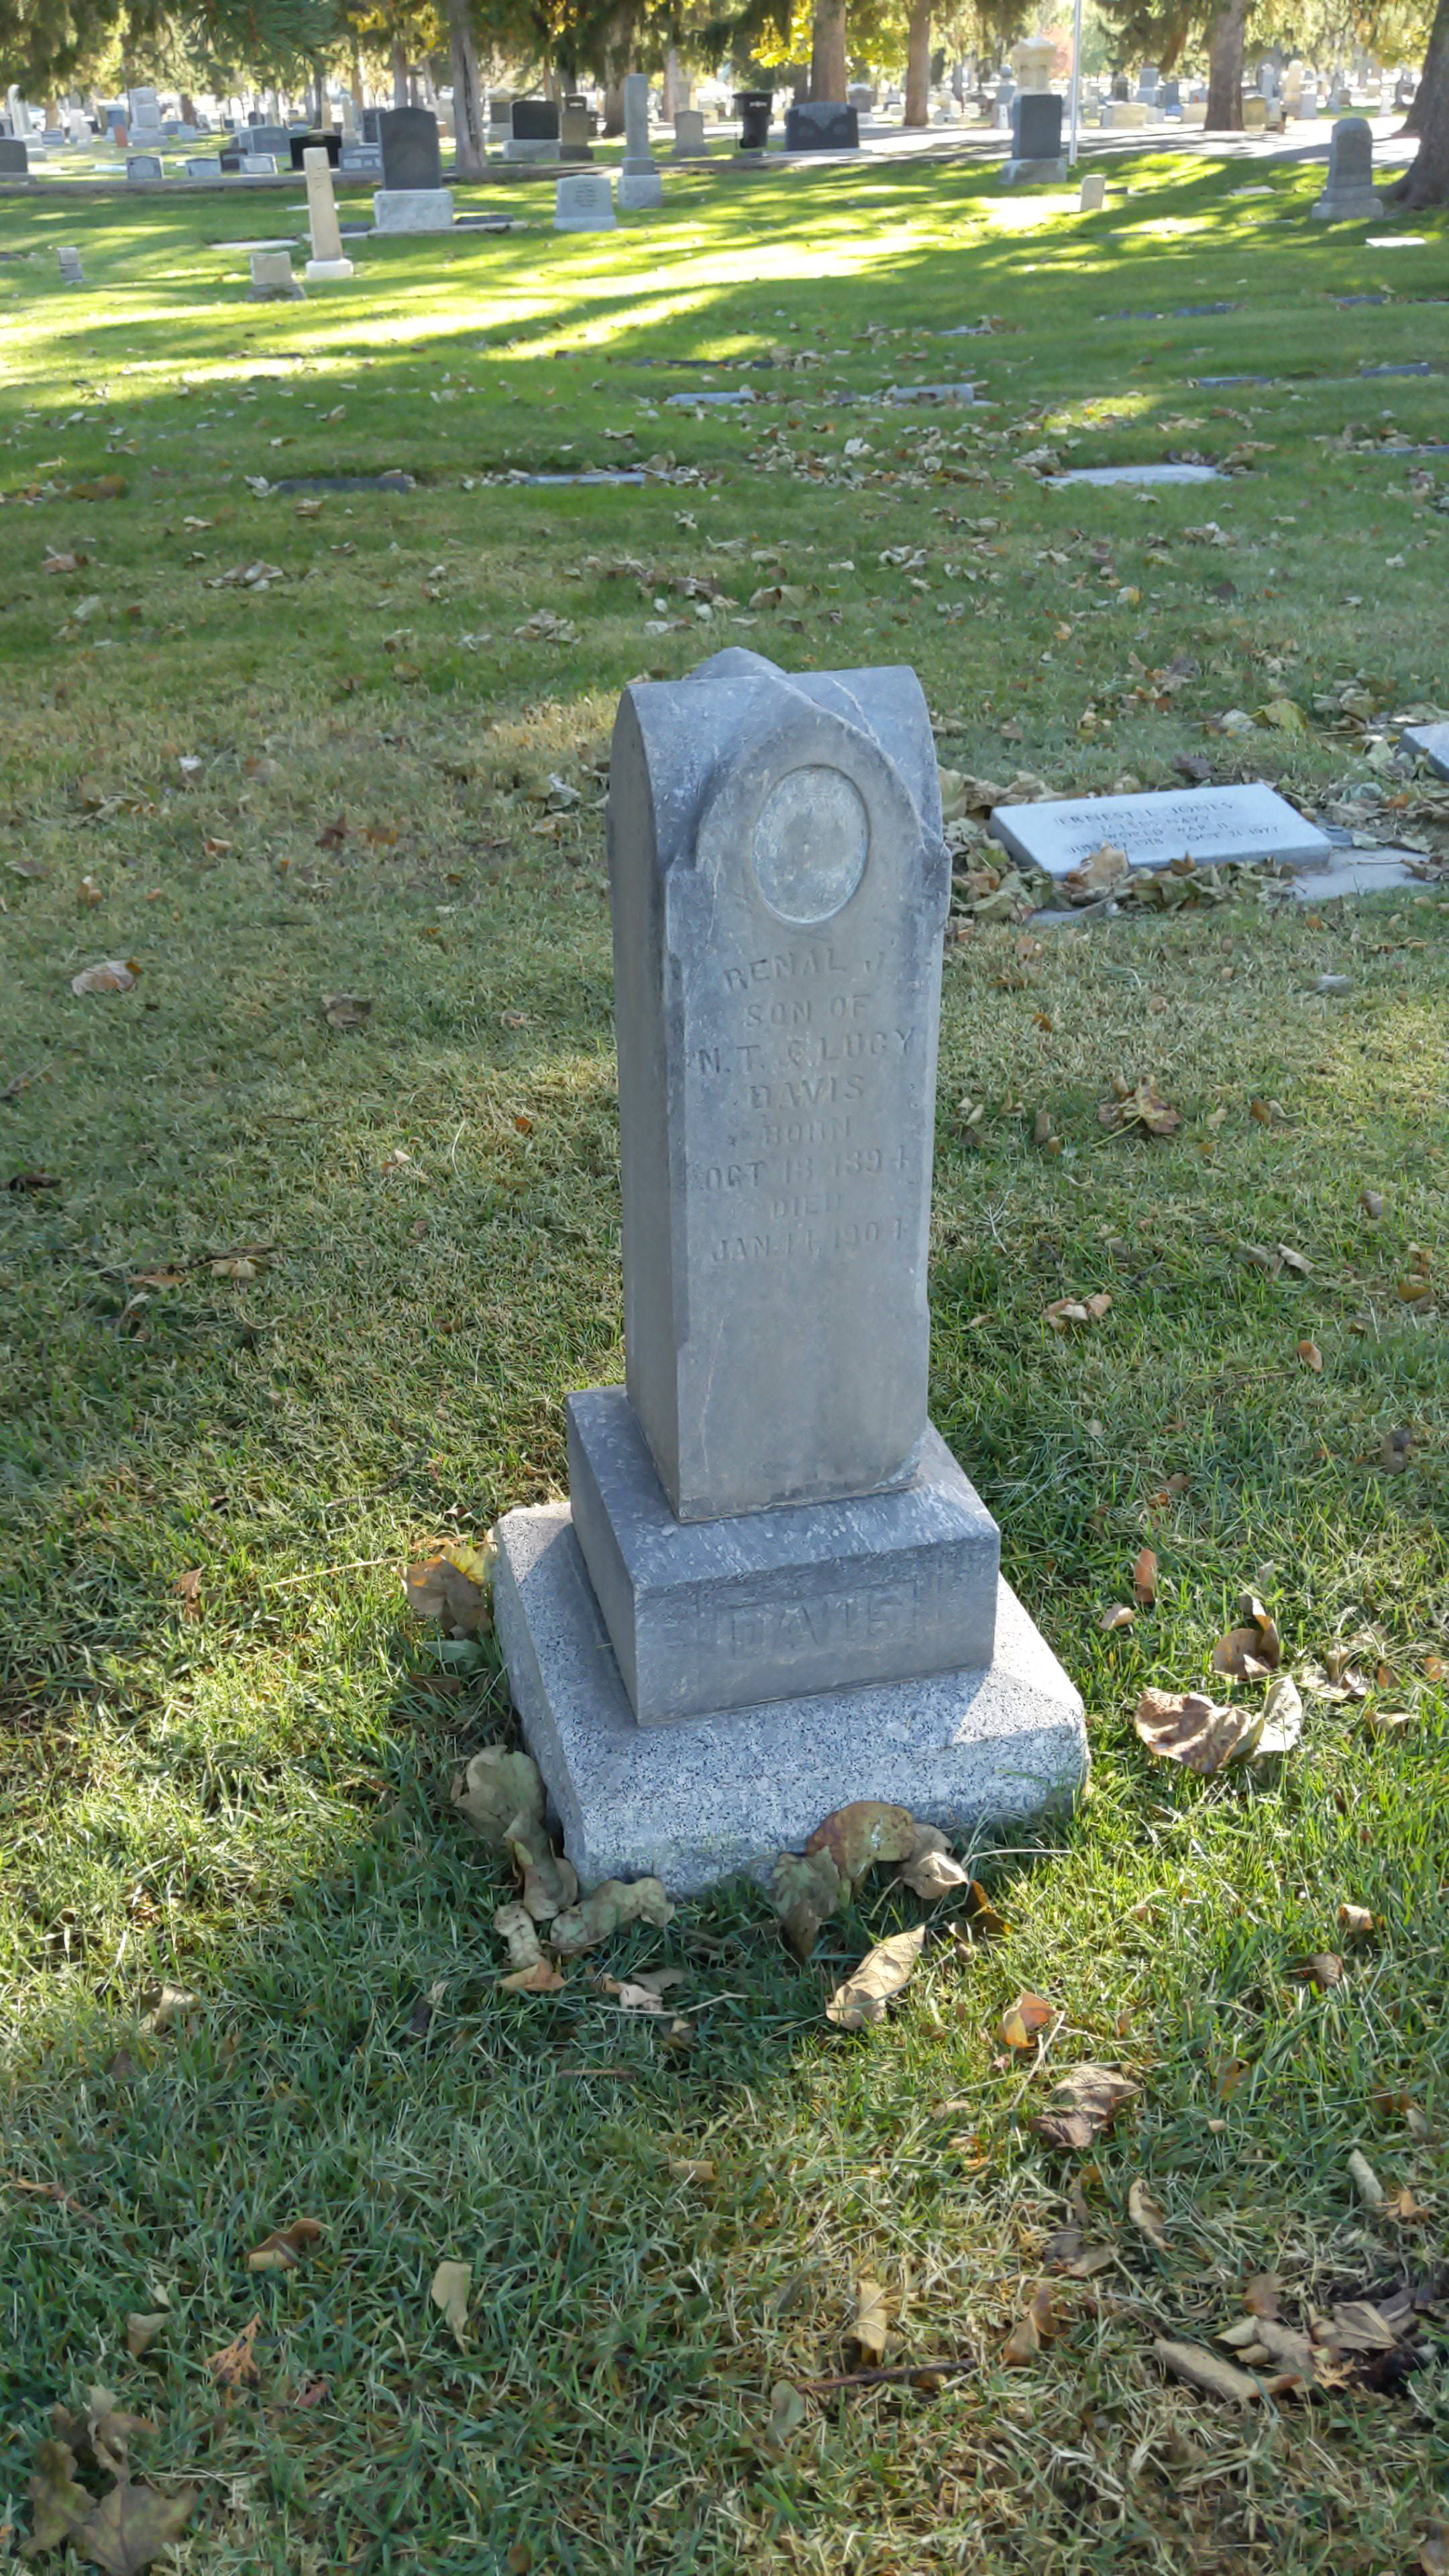obelisk: (566, 644, 987, 1718)
